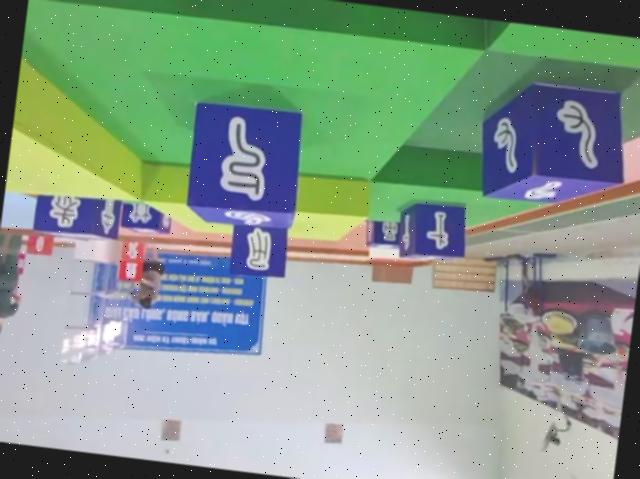R2 Fake Blue: (180, 95, 307, 230), (33, 191, 121, 243), (228, 218, 291, 281)
R2 Real Blue: (476, 71, 636, 210), (396, 196, 471, 264), (118, 200, 173, 237), (361, 216, 401, 248)
